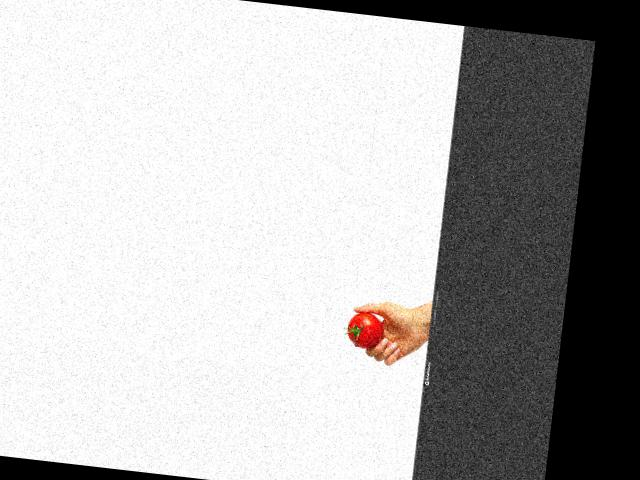tomato: (345, 310, 385, 349)
